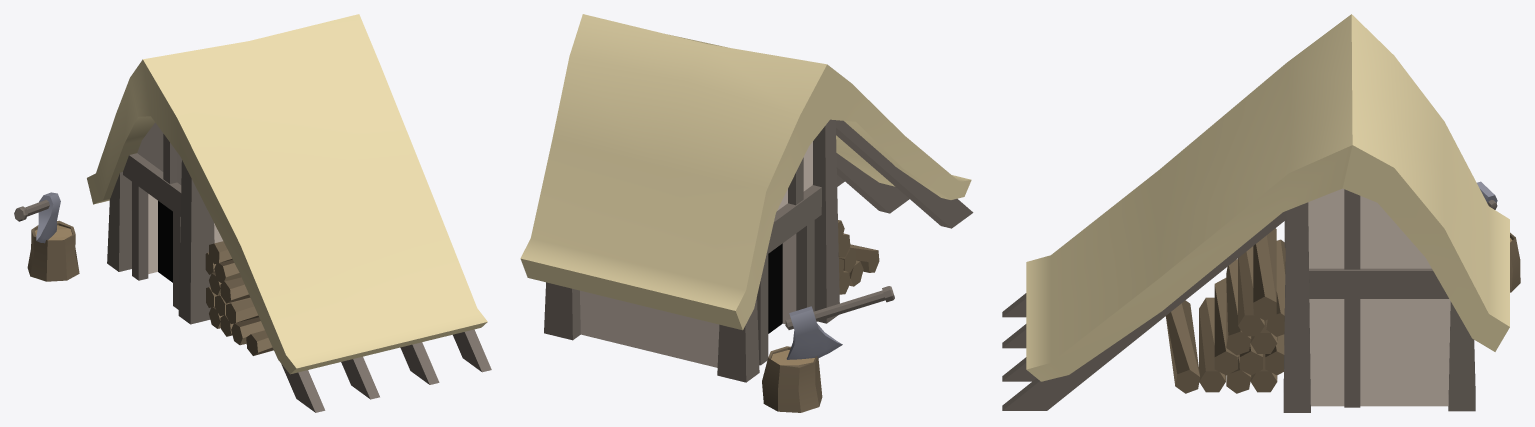
File: MESH_WoodcutterHut.fbx
3 views of the same model, side by side, from view 1: azimuth 30°, elevation 25°; view 2: azimuth 150°, elevation 25°; view 3: azimuth 270°, elevation 25° (orthographic). The views are drawn at different scales.
Parts seen in each view (by area): view 1: MESH_WoodcutterHut; view 2: MESH_WoodcutterHut; view 3: MESH_WoodcutterHut.
Boxes of the visible parts, x1,y1,x2,y2 form: MESH_WoodcutterHut: [14, 14, 491, 412]; MESH_WoodcutterHut: [520, 14, 973, 412]; MESH_WoodcutterHut: [1002, 14, 1520, 412].
Bounding box in the file's own units: 327 × 250 × 409.
